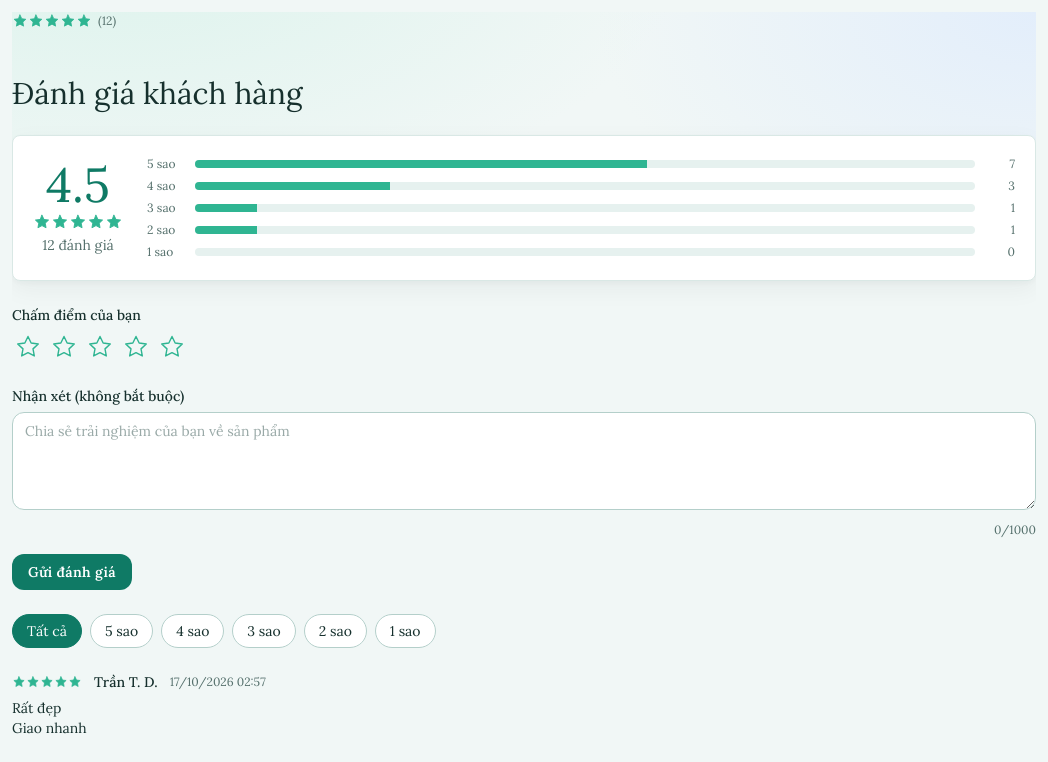
it: khung viết đánh giá › REVIEW_ALREADY_EXISTS: toast tiếng Việt và tải lại trạng thái khung viết
Expected: the form named "Viết đánh giá" is shown, [12,305,1036,590]
Click the radio button named "4 sao" at [136, 347], box [120,331,152,363]
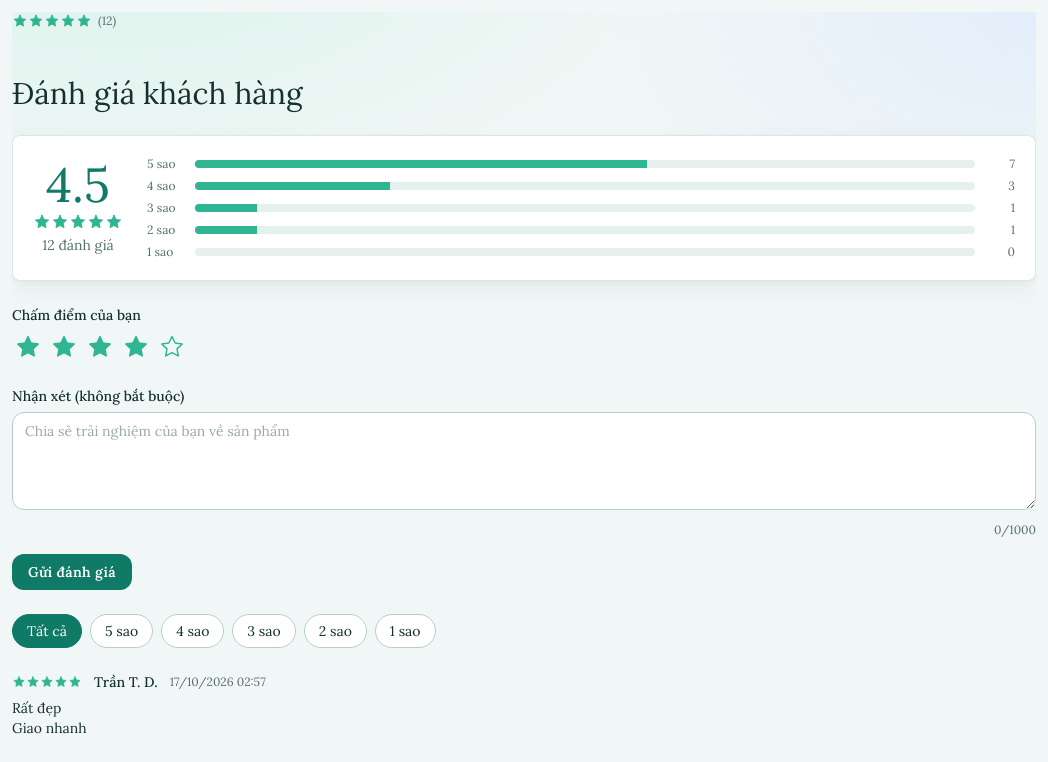
Click the button "Gửi đánh giá" at [72, 572], box [12,554,132,590]
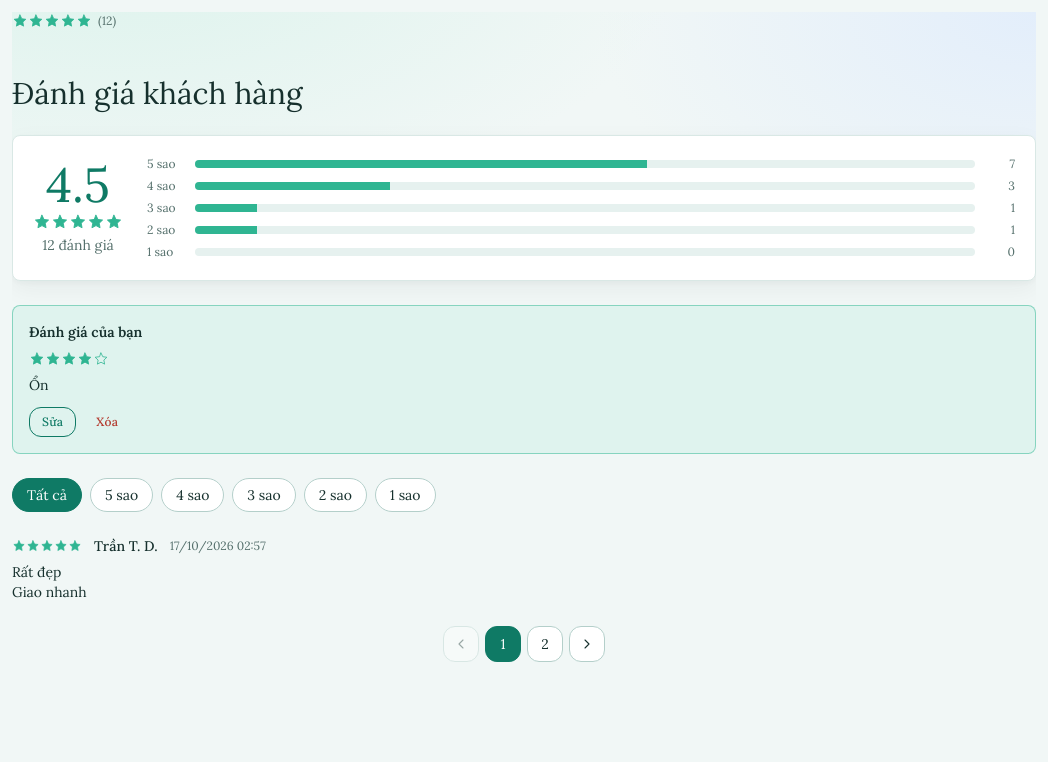
Expected: the element labelled "Đánh giá của bạn" is shown, [12,305,1036,454]
